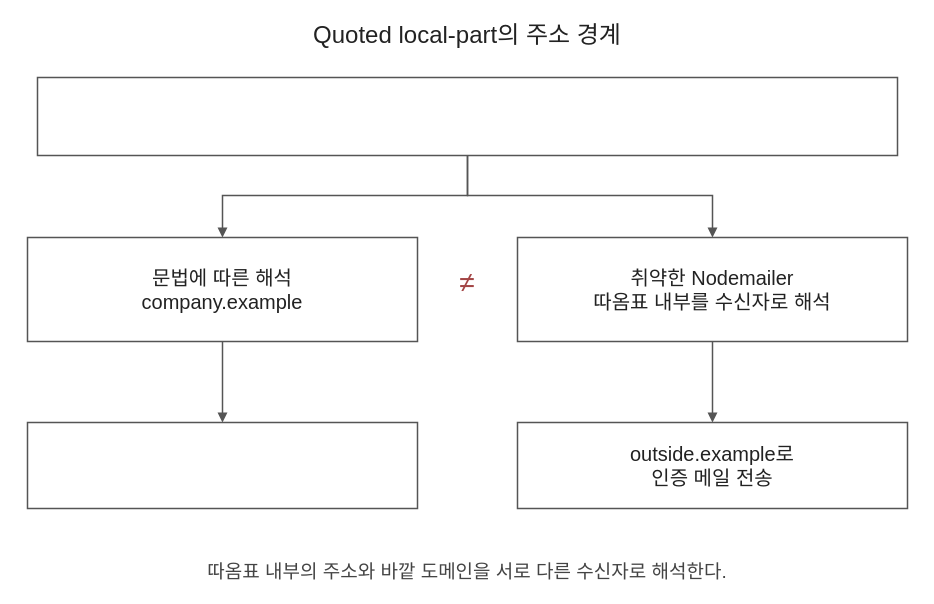
This 934x604 diagram has some shape labels left out. The shapes that lost their labels are listed below. From the top down, each one's box as (x1, y1, x2, y2) in pixels, then its label:
(36, 76, 898, 156): 입력: "reader@outside.example x"@company.example
(26, 421, 418, 509): company.example 기준으로 도메인 검사 통과
